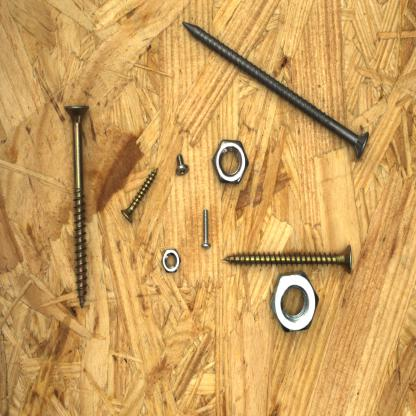screw: (181, 19, 372, 162), (61, 102, 92, 309), (218, 242, 356, 276), (119, 164, 161, 225), (199, 207, 212, 251), (173, 151, 192, 178)
